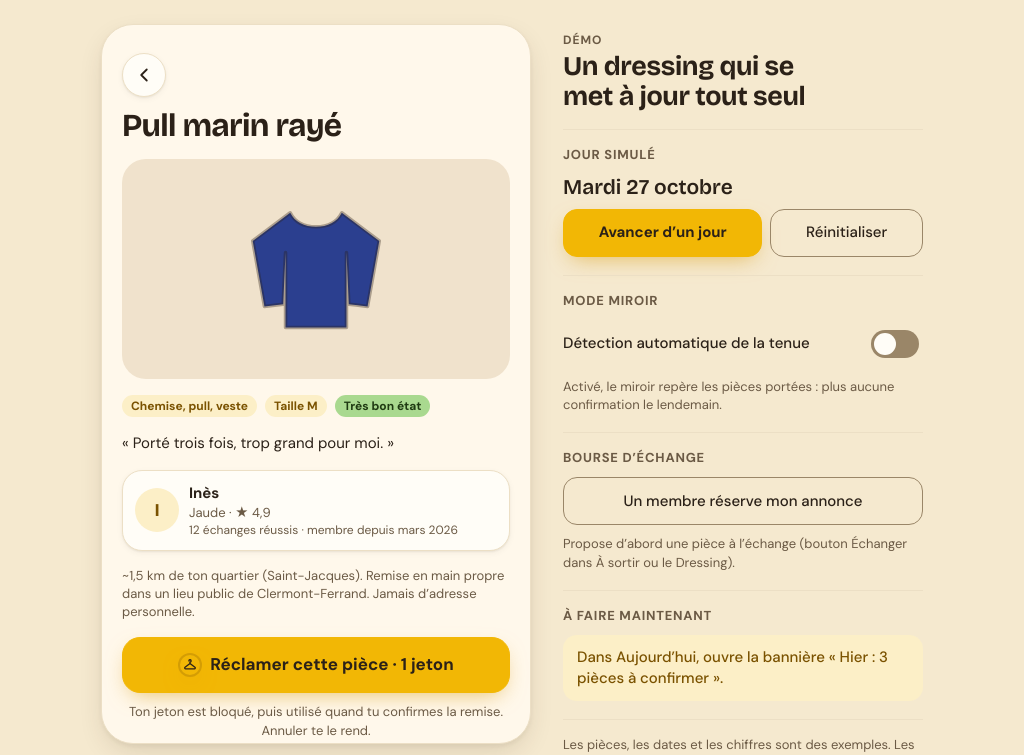
Test case: bourse d’échange simulée › réclamer, fixer le rendez-vous, scanner : la pièce arrive dans le dressing
Click the button "Réclamer cette pièce · 1 jeton" at (316, 665), box left=122, top=637, right=510, bottom=693
(page scrolled)
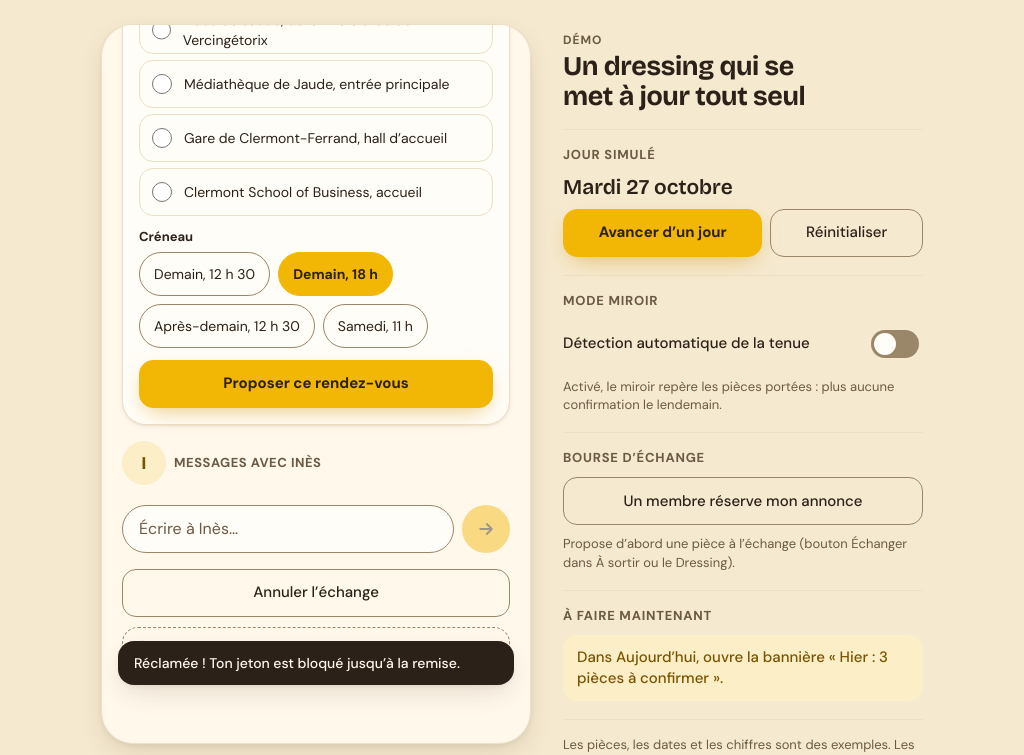
Click the button "Proposer ce rendez-vous" at (316, 384), box left=139, top=360, right=493, bottom=408
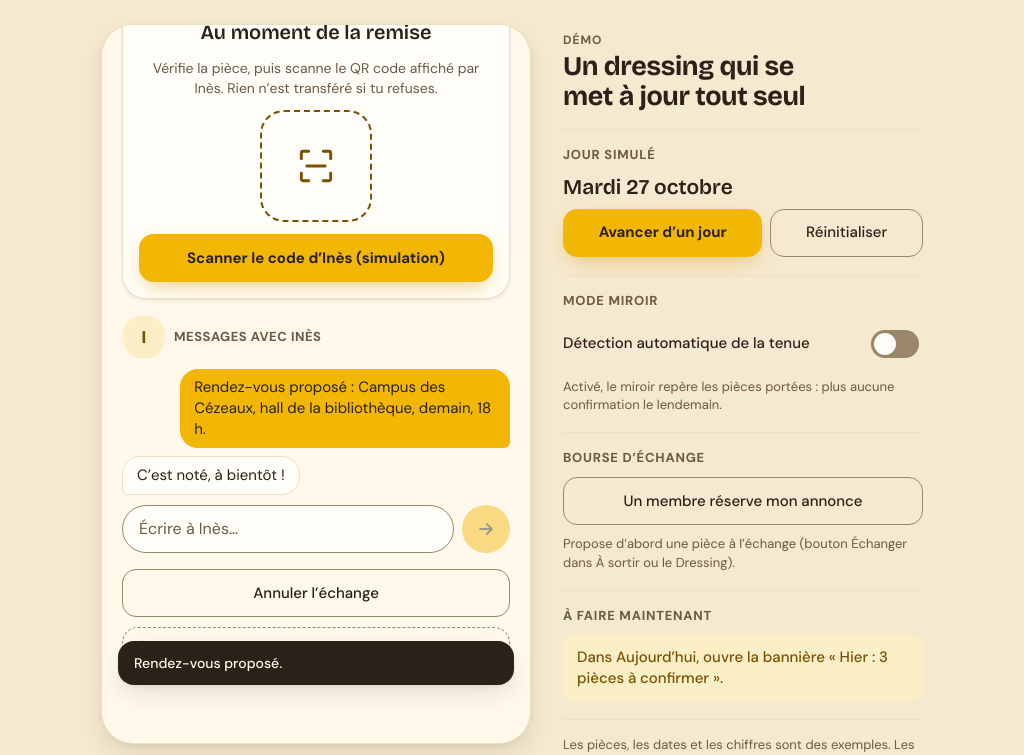
Click the button "Scanner le code d’Inès (simulation)" at (316, 258), box left=139, top=234, right=493, bottom=282
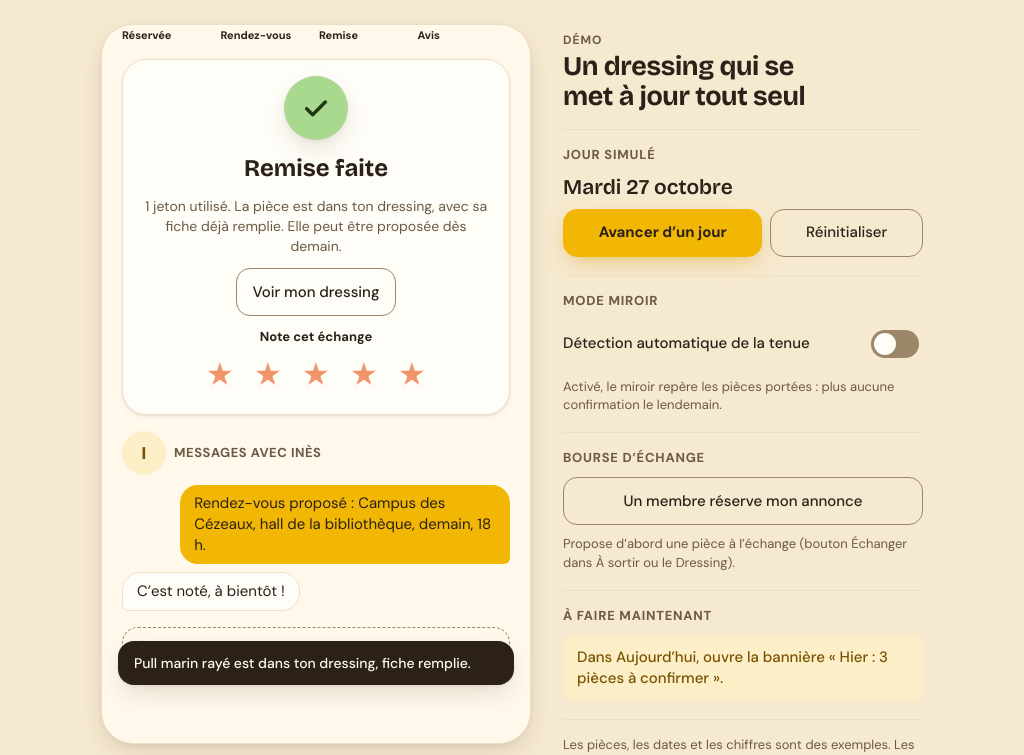
Expected: the heading "Remise faite" is shown, left=244, top=152, right=388, bottom=184
Click the button named "5 sur 5" at (412, 376), box left=390, top=354, right=434, bottom=398
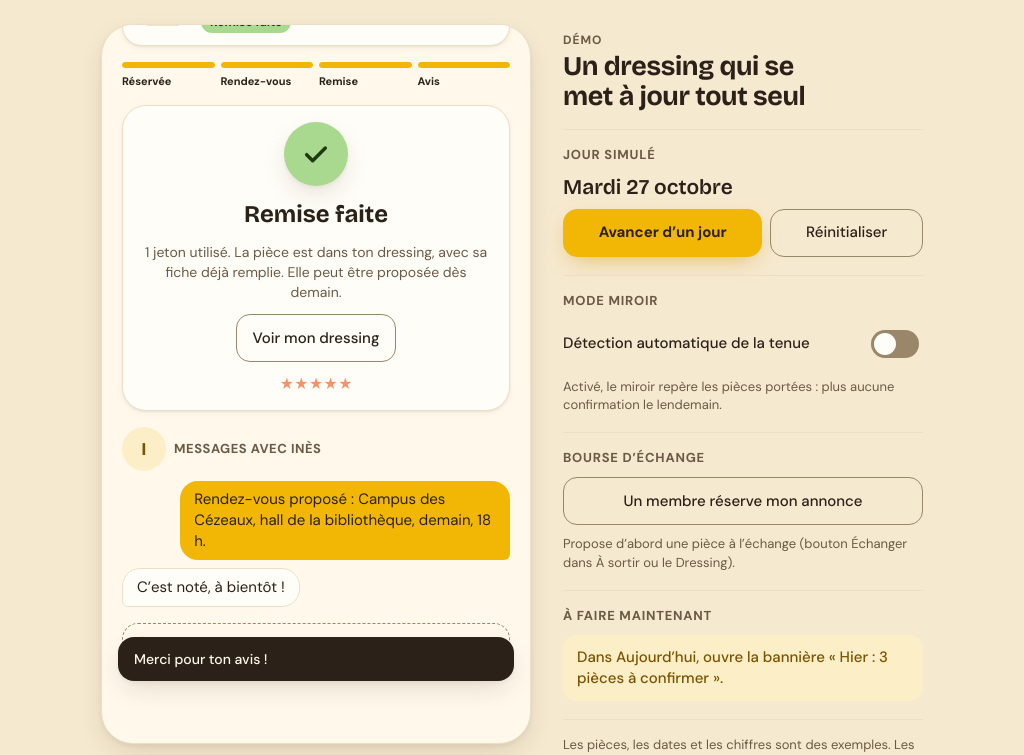
Expected: the text "Merci pour ton avis !" is shown, left=134, top=649, right=268, bottom=669
